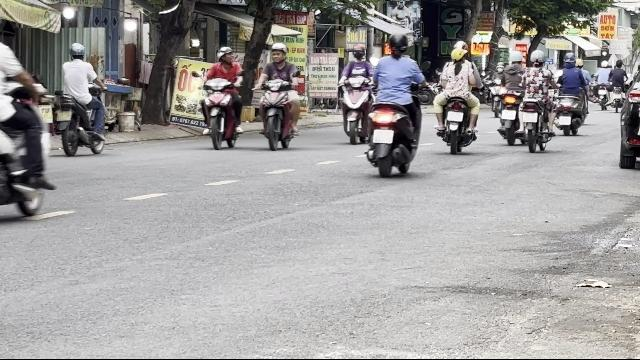helmet: (386, 30, 408, 56), (269, 41, 287, 62), (449, 47, 467, 66), (216, 46, 234, 64), (529, 48, 545, 66), (69, 42, 85, 60), (350, 43, 366, 59), (508, 51, 522, 65)
licenseplate: (372, 130, 393, 144), (447, 110, 463, 122), (522, 112, 538, 122), (502, 109, 516, 120), (56, 110, 70, 120)
motorcyclist: (364, 29, 426, 177), (50, 42, 106, 156), (432, 41, 481, 153), (254, 42, 304, 150), (197, 44, 245, 150), (336, 41, 374, 142), (518, 48, 554, 152), (494, 50, 526, 146)
